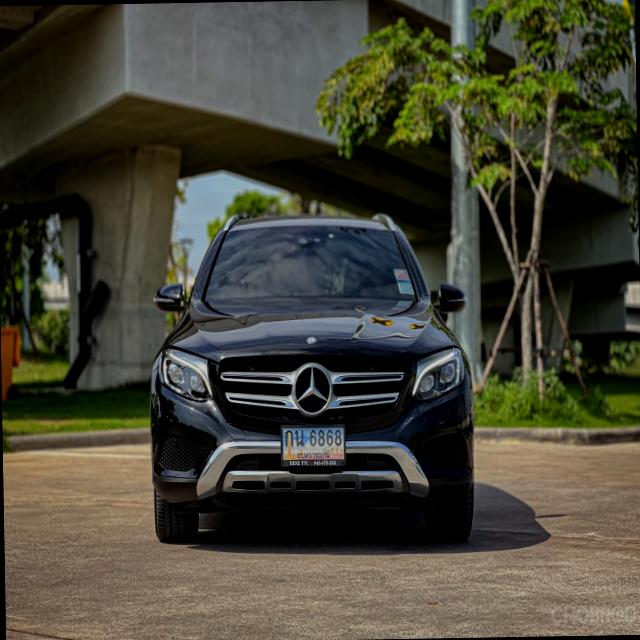license_plate: (279, 422, 348, 468)
